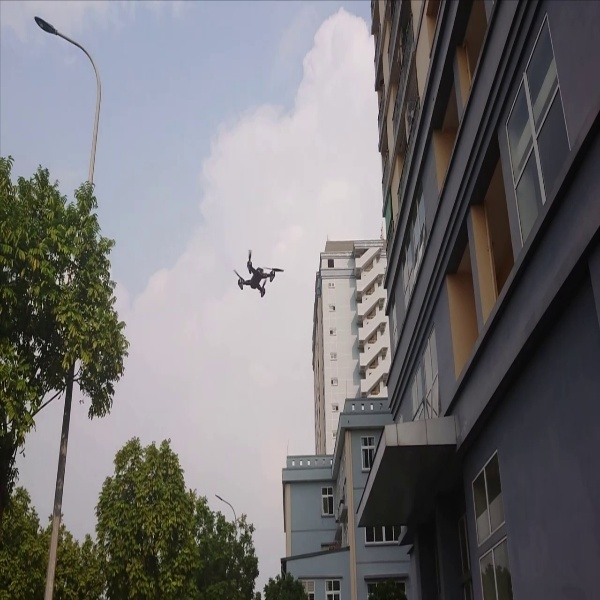drone: (229, 241, 290, 305)
